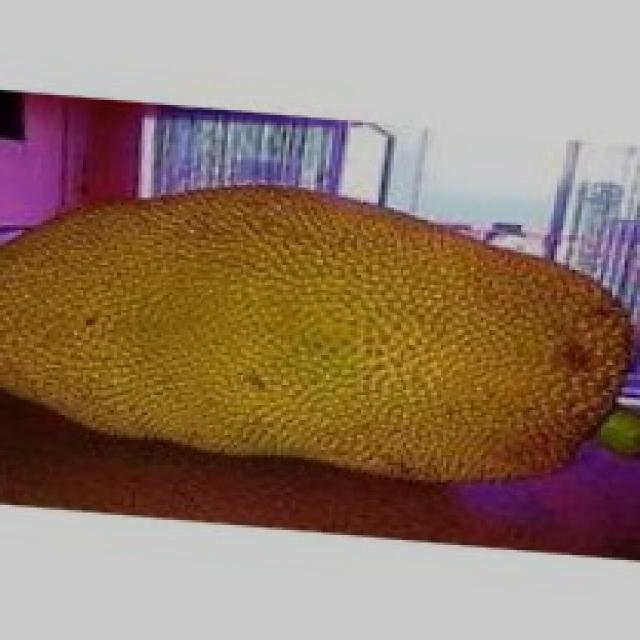Fruit: (258, 168, 640, 528), (0, 157, 403, 495)
